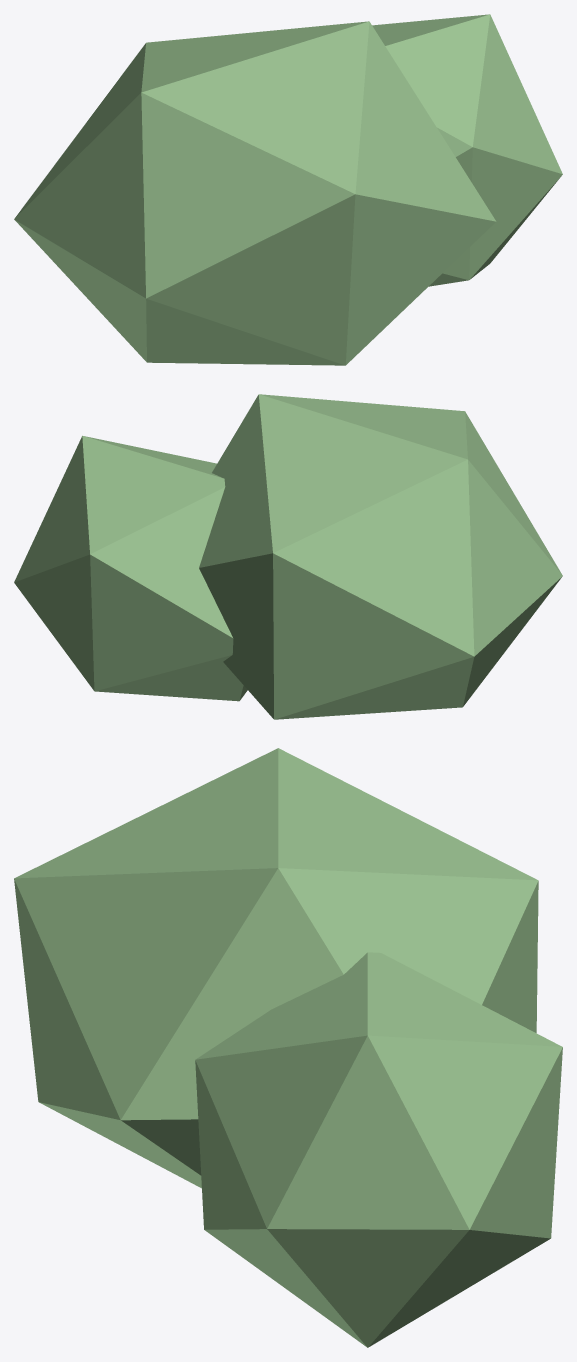
The model's file is shrub-b-far.glb.
The picture shows the model from 3 angles, top to bottom: view 1: azimuth 30°, elevation 25°; view 2: azimuth 150°, elevation 25°; view 3: azimuth 270°, elevation 25°; orthographic projection. The views are drawn at different scales.
Visible parts, largest first — view 1: shrub-b-far; view 2: shrub-b-far; view 3: shrub-b-far.
Part boxes in pixels (left/top/right/bottom): shrub-b-far: left=14, top=14, right=562, bottom=365; shrub-b-far: left=14, top=394, right=562, bottom=719; shrub-b-far: left=14, top=748, right=562, bottom=1347.
Bounding box in the file's own units: 1.46 × 0.8791 × 1.14.
